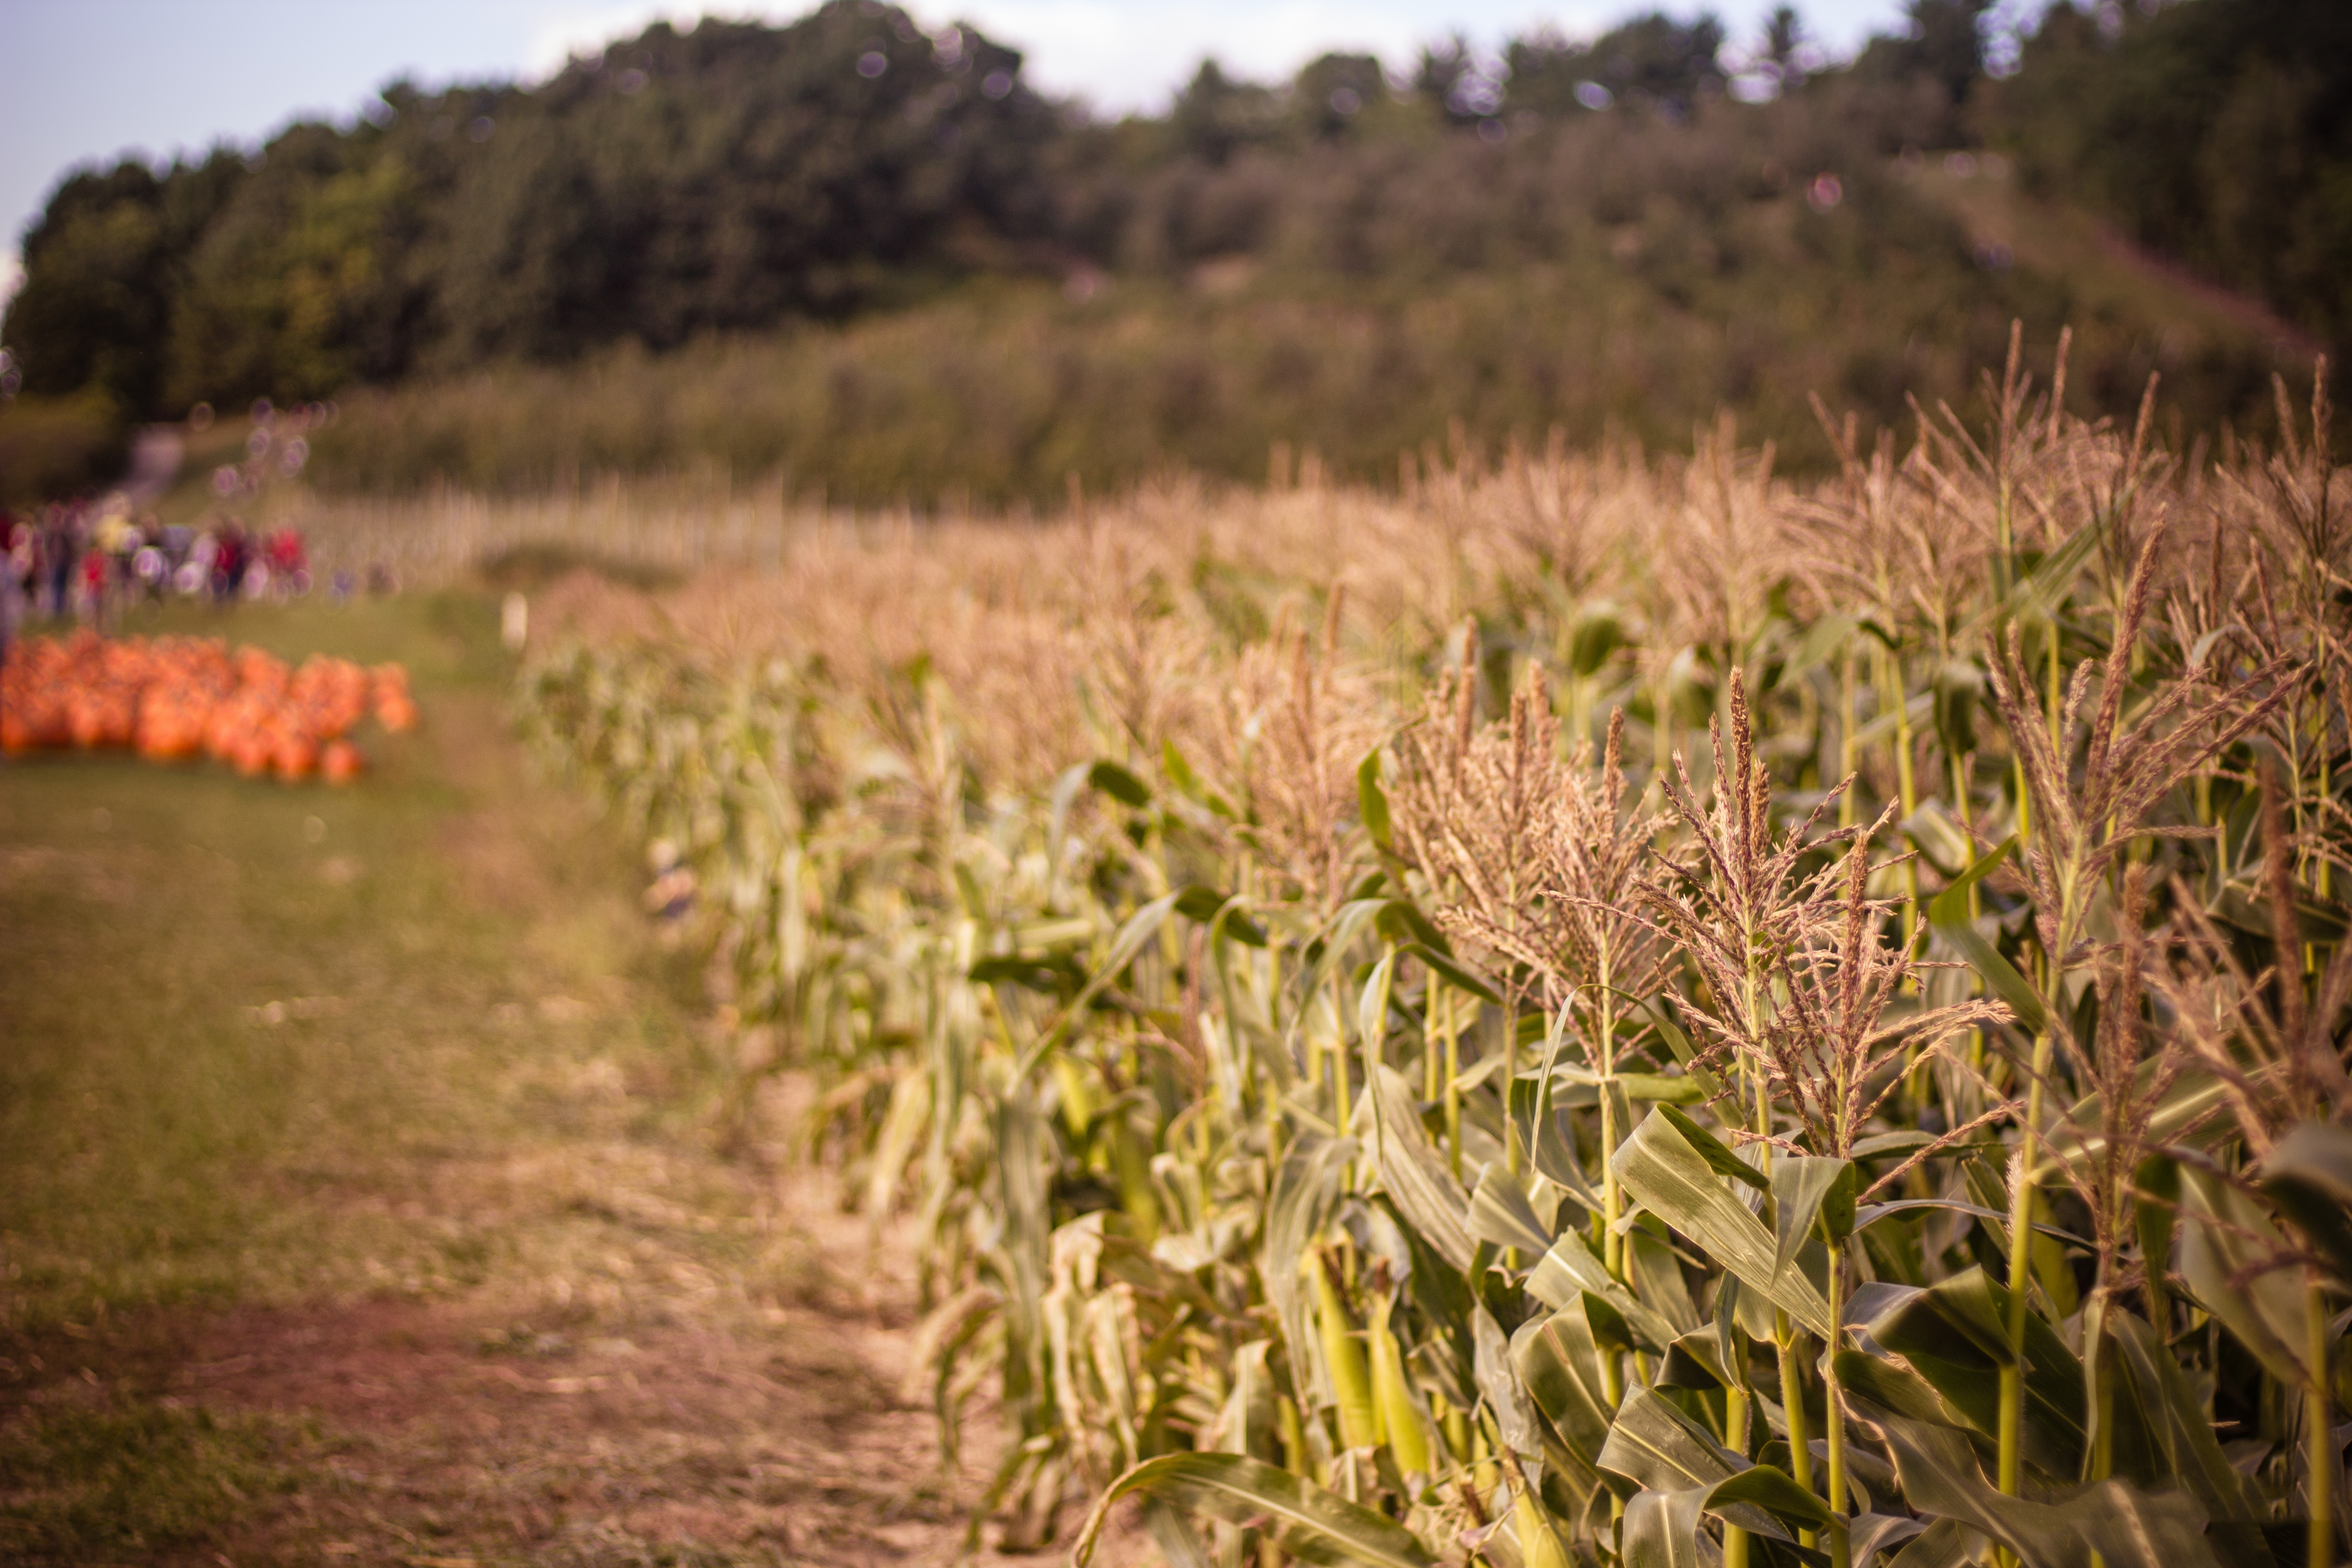Wheat: (1393, 446, 2320, 1444)
